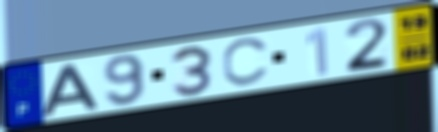1: (304, 25, 330, 77)
2: (343, 17, 390, 74)
3: (167, 42, 214, 98)
9: (101, 53, 148, 107)
A: (38, 62, 101, 118)
C: (220, 35, 274, 89)
